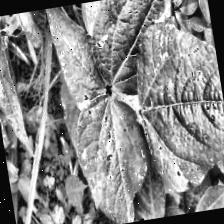ALS: (129, 22, 224, 194), (75, 93, 155, 224), (90, 0, 199, 93), (0, 22, 26, 158)
